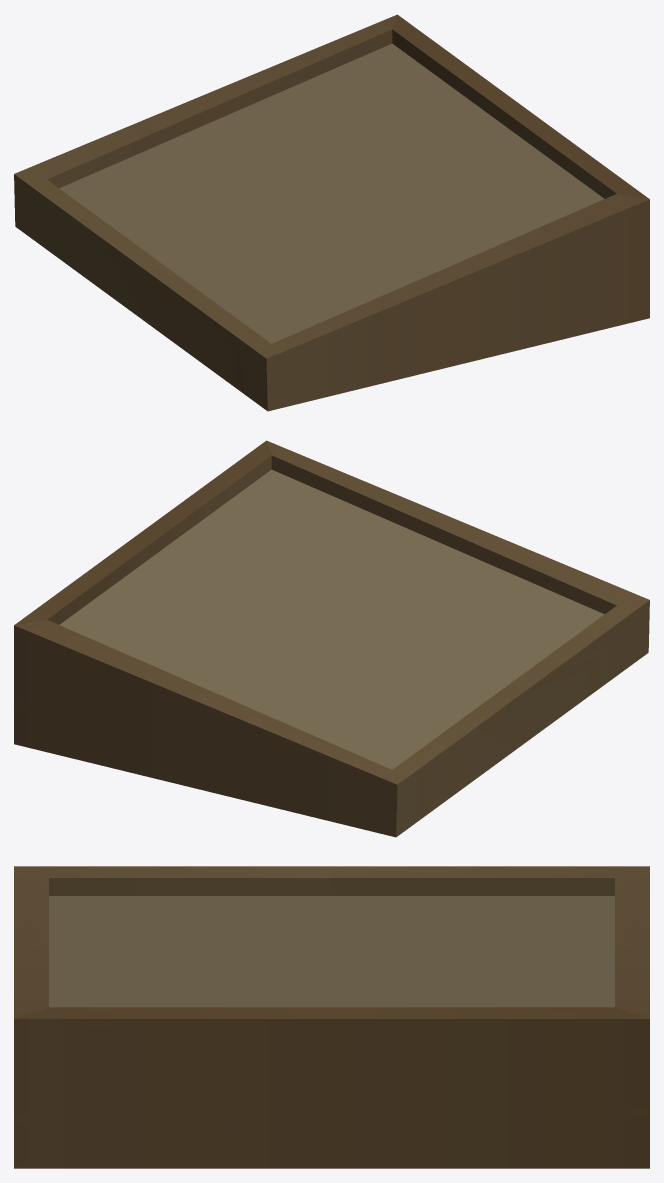
The model's file is Crate_Food_Empty2_&_LOD1.fbx.
3 views of the same model, one above another, from view 1: azimuth 30°, elevation 25°; view 2: azimuth 150°, elevation 25°; view 3: azimuth 270°, elevation 25° (orthographic). The views are drawn at different scales.
Parts seen in each view (by area): view 1: polySurface9656; view 2: polySurface9656; view 3: polySurface9656.
Part boxes in pixels (bbox=[...]): polySurface9656: bbox=[14, 14, 649, 411]; polySurface9656: bbox=[14, 440, 649, 837]; polySurface9656: bbox=[14, 866, 649, 1168].
Size of the model in its own units: 186 by 55 by 212.
